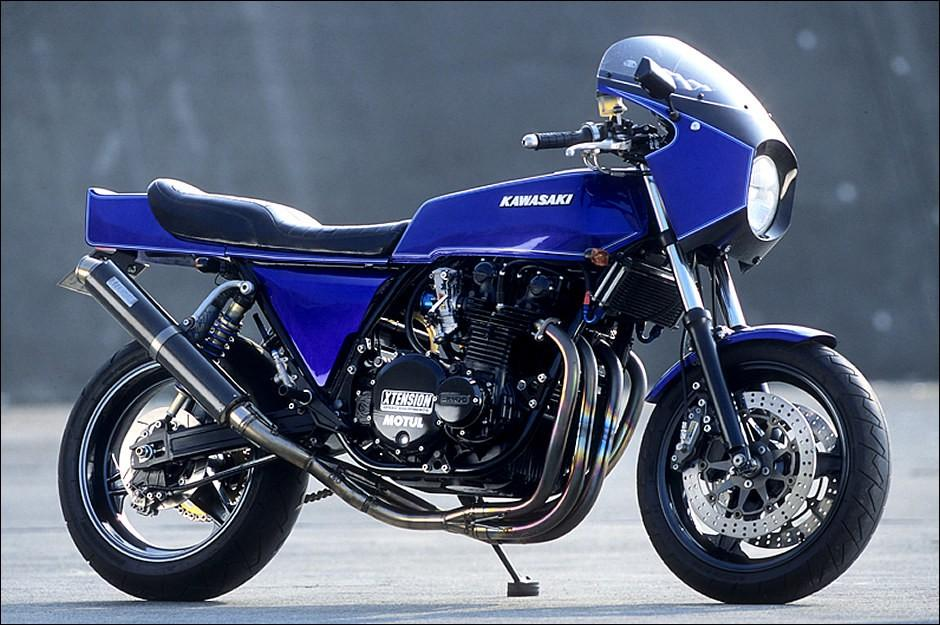Motorcycle: (40, 99, 887, 613)
